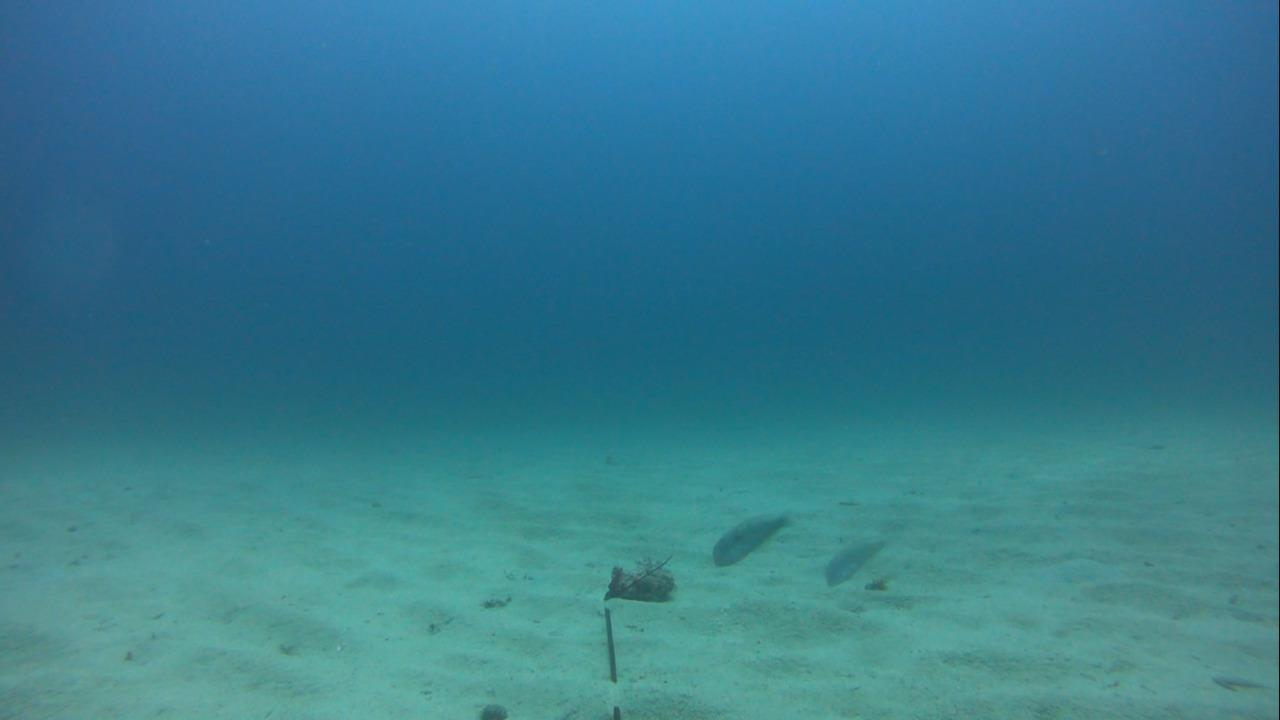raor: (710, 511, 794, 571), (820, 534, 897, 589)
